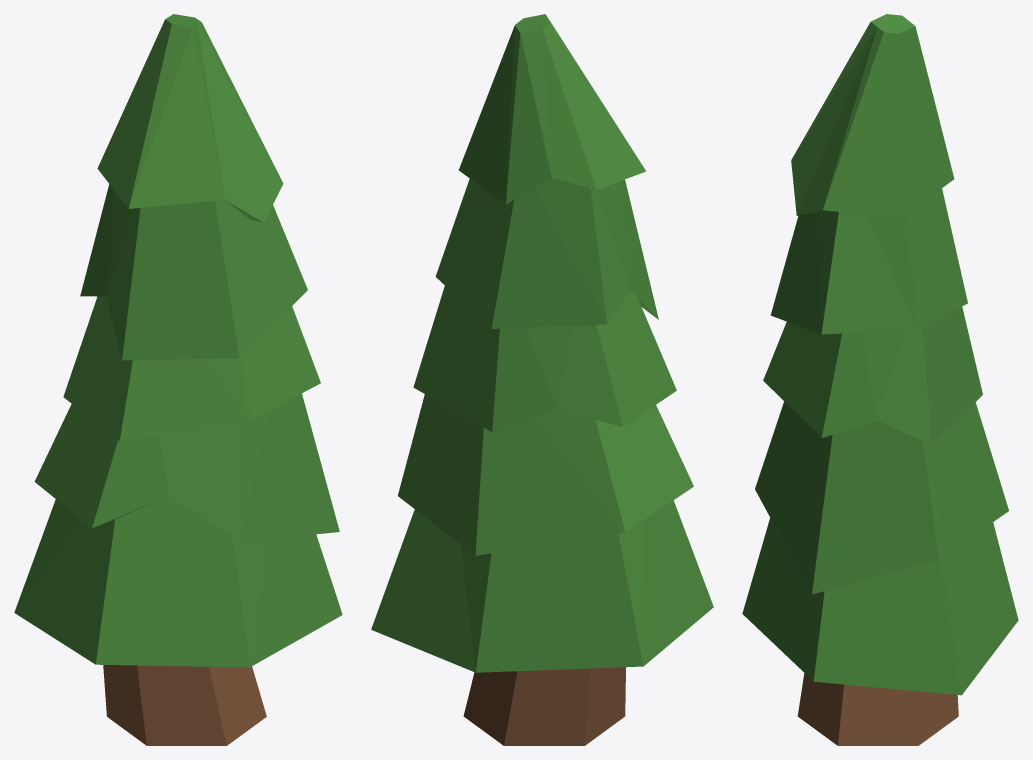
The model's file is pine01.fbx.
3 views of the same model, side by side, from view 1: azimuth 30°, elevation 25°; view 2: azimuth 150°, elevation 25°; view 3: azimuth 270°, elevation 25° (orthographic).
Parts seen in each view (by area): view 1: pine01_leaves, pine01; view 2: pine01_leaves, pine01; view 3: pine01_leaves, pine01.
Part boxes in pixels (x1,y1,x2,y2): pine01_leaves: [14, 14, 342, 667]; pine01: [103, 665, 266, 745]; pine01_leaves: [371, 14, 713, 672]; pine01: [463, 667, 625, 745]; pine01_leaves: [742, 14, 1018, 695]; pine01: [797, 673, 958, 745].
Bounding box in the file's own units: 418 × 1041 × 374.
